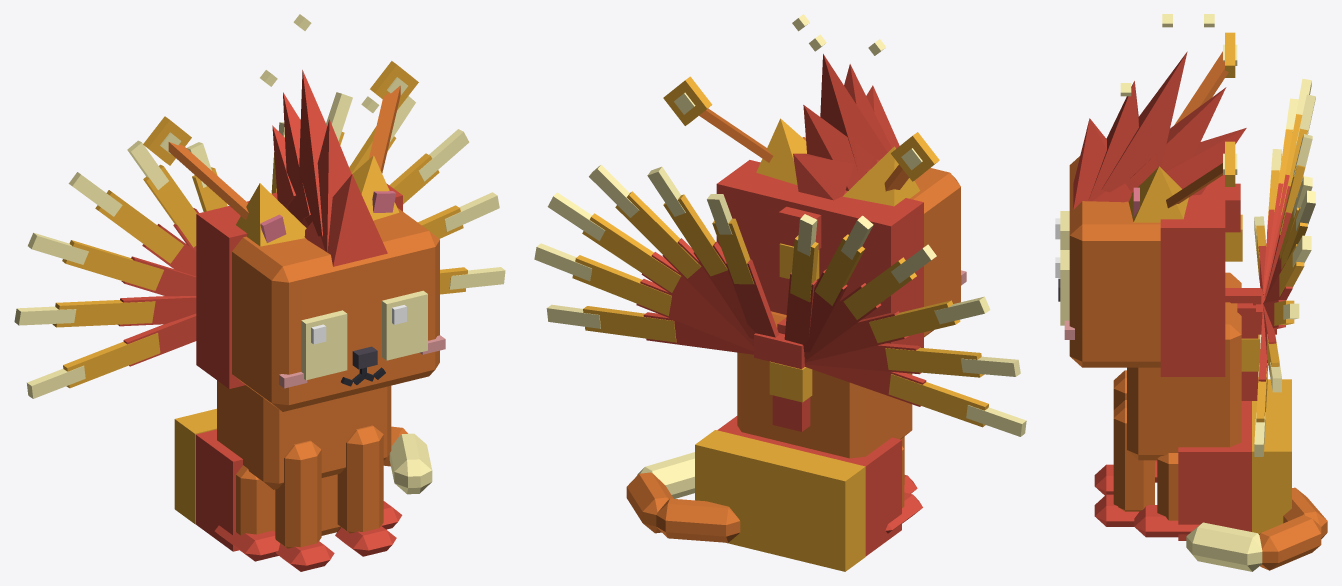
Rendered from CatCafe_Cat_Phoenix_Sit.glb.
The picture shows the model from 3 angles, left to right: view 1: azimuth 30°, elevation 25°; view 2: azimuth 150°, elevation 25°; view 3: azimuth 270°, elevation 25°; orthographic projection.
Visible parts, largest first — view 1: CatCafe_Cat_Phoenix_Sit_Head, CatCafe_Cat_Phoenix_Sit_Wings_Glow, CatCafe_Cat_Phoenix_Sit_Body, CatCafe_Cat_Phoenix_Sit_Prop, CatCafe_Cat_Phoenix_Sit_LegF1, CatCafe_Cat_Phoenix_Sit_LegF2, CatCafe_Cat_Phoenix_Sit_Prop2, CatCafe_Cat_Phoenix_Sit_Eye2, CatCafe_Cat_Phoenix_Sit_Eye1, CatCafe_Cat_Phoenix_Sit_Glow, CatCafe_Cat_Phoenix_Sit_EarR, CatCafe_Cat_Phoenix_Sit_Tail (+1 smaller); view 2: CatCafe_Cat_Phoenix_Sit_Body, CatCafe_Cat_Phoenix_Sit_Wings_Glow, CatCafe_Cat_Phoenix_Sit_Head, CatCafe_Cat_Phoenix_Sit_Prop2, CatCafe_Cat_Phoenix_Sit_Prop, CatCafe_Cat_Phoenix_Sit_Tail, CatCafe_Cat_Phoenix_Sit_Glow, CatCafe_Cat_Phoenix_Sit_EarR, CatCafe_Cat_Phoenix_Sit_EarL; view 3: CatCafe_Cat_Phoenix_Sit_Head, CatCafe_Cat_Phoenix_Sit_Body, CatCafe_Cat_Phoenix_Sit_Prop, CatCafe_Cat_Phoenix_Sit_Wings_Glow, CatCafe_Cat_Phoenix_Sit_Tail, CatCafe_Cat_Phoenix_Sit_Prop2, CatCafe_Cat_Phoenix_Sit_LegF1, CatCafe_Cat_Phoenix_Sit_EarL, CatCafe_Cat_Phoenix_Sit_Glow, CatCafe_Cat_Phoenix_Sit_LegF2, CatCafe_Cat_Phoenix_Sit_Eye1, CatCafe_Cat_Phoenix_Sit_Eye2.
Part boxes in pixels (left/top/right/bottom): CatCafe_Cat_Phoenix_Sit_Head: left=196, top=183, right=445, bottom=411; CatCafe_Cat_Phoenix_Sit_Wings_Glow: left=14, top=92, right=505, bottom=398; CatCafe_Cat_Phoenix_Sit_Body: left=174, top=380, right=402, bottom=561; CatCafe_Cat_Phoenix_Sit_Prop: left=168, top=70, right=400, bottom=266; CatCafe_Cat_Phoenix_Sit_LegF1: left=335, top=425, right=396, bottom=556; CatCafe_Cat_Phoenix_Sit_LegF2: left=275, top=440, right=334, bottom=571; CatCafe_Cat_Phoenix_Sit_Prop2: left=118, top=208, right=198, bottom=366; CatCafe_Cat_Phoenix_Sit_Eye2: left=301, top=310, right=347, bottom=380; CatCafe_Cat_Phoenix_Sit_Eye1: left=382, top=290, right=427, bottom=360; CatCafe_Cat_Phoenix_Sit_Glow: left=143, top=14, right=418, bottom=165; CatCafe_Cat_Phoenix_Sit_EarR: left=236, top=183, right=306, bottom=246; CatCafe_Cat_Phoenix_Sit_Tail: left=383, top=426, right=432, bottom=494; CatCafe_Cat_Phoenix_Sit_Body: left=695, top=311, right=922, bottom=571; CatCafe_Cat_Phoenix_Sit_Wings_Glow: left=534, top=164, right=1026, bottom=436; CatCafe_Cat_Phoenix_Sit_Head: left=716, top=137, right=966, bottom=347; CatCafe_Cat_Phoenix_Sit_Prop2: left=636, top=238, right=926, bottom=406; CatCafe_Cat_Phoenix_Sit_Prop: left=699, top=54, right=909, bottom=200; CatCafe_Cat_Phoenix_Sit_Tail: left=626, top=452, right=740, bottom=542; CatCafe_Cat_Phoenix_Sit_Glow: left=663, top=14, right=939, bottom=181; CatCafe_Cat_Phoenix_Sit_EarR: left=843, top=146, right=919, bottom=206; CatCafe_Cat_Phoenix_Sit_EarL: left=756, top=118, right=806, bottom=185; CatCafe_Cat_Phoenix_Sit_Head: left=1058, top=156, right=1242, bottom=376; CatCafe_Cat_Phoenix_Sit_Body: left=1127, top=272, right=1291, bottom=540; CatCafe_Cat_Phoenix_Sit_Prop: left=1073, top=51, right=1246, bottom=209; CatCafe_Cat_Phoenix_Sit_Wings_Glow: left=1254, top=78, right=1315, bottom=456; CatCafe_Cat_Phoenix_Sit_Tail: left=1186, top=487, right=1327, bottom=571; CatCafe_Cat_Phoenix_Sit_Prop2: left=1225, top=174, right=1292, bottom=381; CatCafe_Cat_Phoenix_Sit_LegF1: left=1094, top=400, right=1154, bottom=526; CatCafe_Cat_Phoenix_Sit_EarL: left=1128, top=166, right=1188, bottom=222; CatCafe_Cat_Phoenix_Sit_Glow: left=1120, top=14, right=1237, bottom=186; CatCafe_Cat_Phoenix_Sit_LegF2: left=1094, top=370, right=1126, bottom=495; CatCafe_Cat_Phoenix_Sit_Eye1: left=1055, top=250, right=1069, bottom=325; CatCafe_Cat_Phoenix_Sit_Eye2: left=1055, top=211, right=1069, bottom=249.
Size of the model in its own units: 2.5 by 2.5 by 1.24.
Materials: 1 (1 with a texture image).
